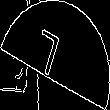L_SW: (38, 25, 72, 85)
